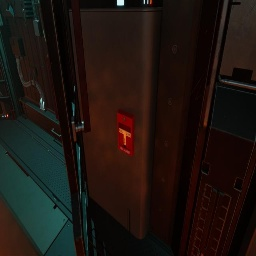FireAlarm ,: (117, 109, 135, 156)
